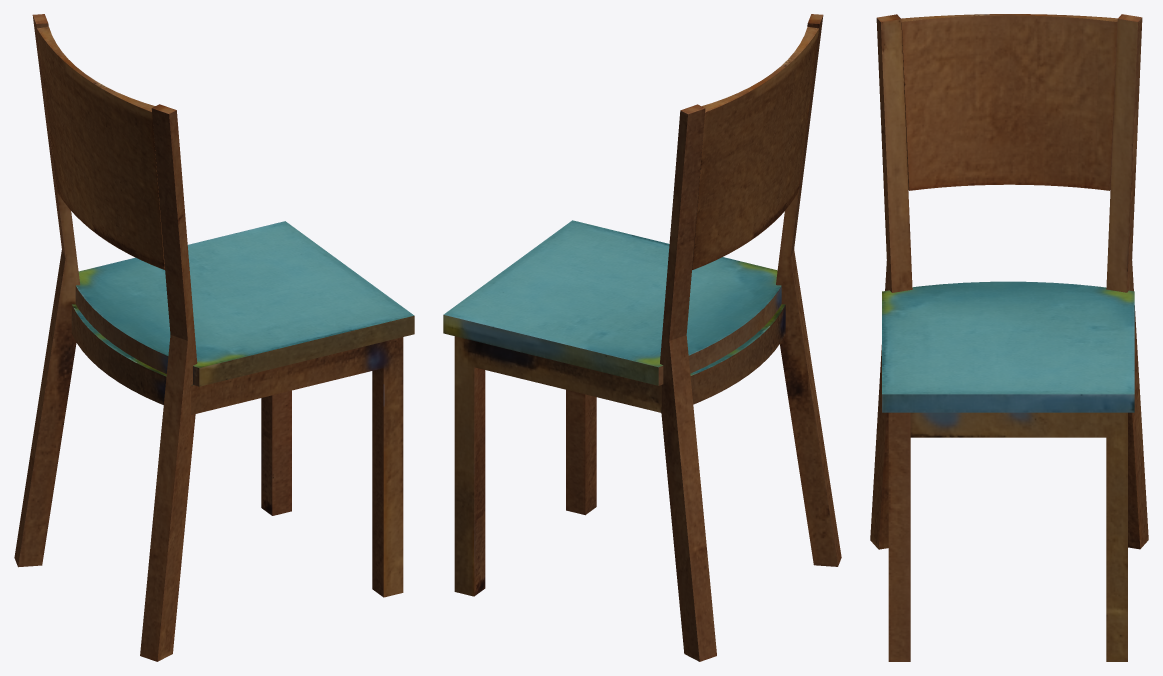
The picture shows the model from 3 angles, left to right: view 1: azimuth 30°, elevation 25°; view 2: azimuth 150°, elevation 25°; view 3: azimuth 270°, elevation 25°; orthographic projection. The views are drawn at different scales.
Parts seen in each view (by area): view 1: Node; view 2: Node; view 3: Node.
Boxes of the visible parts, left/top/right/bottom form: Node: left=14, top=14, right=414, bottom=661; Node: left=443, top=14, right=841, bottom=661; Node: left=870, top=14, right=1148, bottom=661.
Size of the model in its own units: 0.366 by 0.7 by 0.3336.
Materials: 1 (1 with a texture image).
